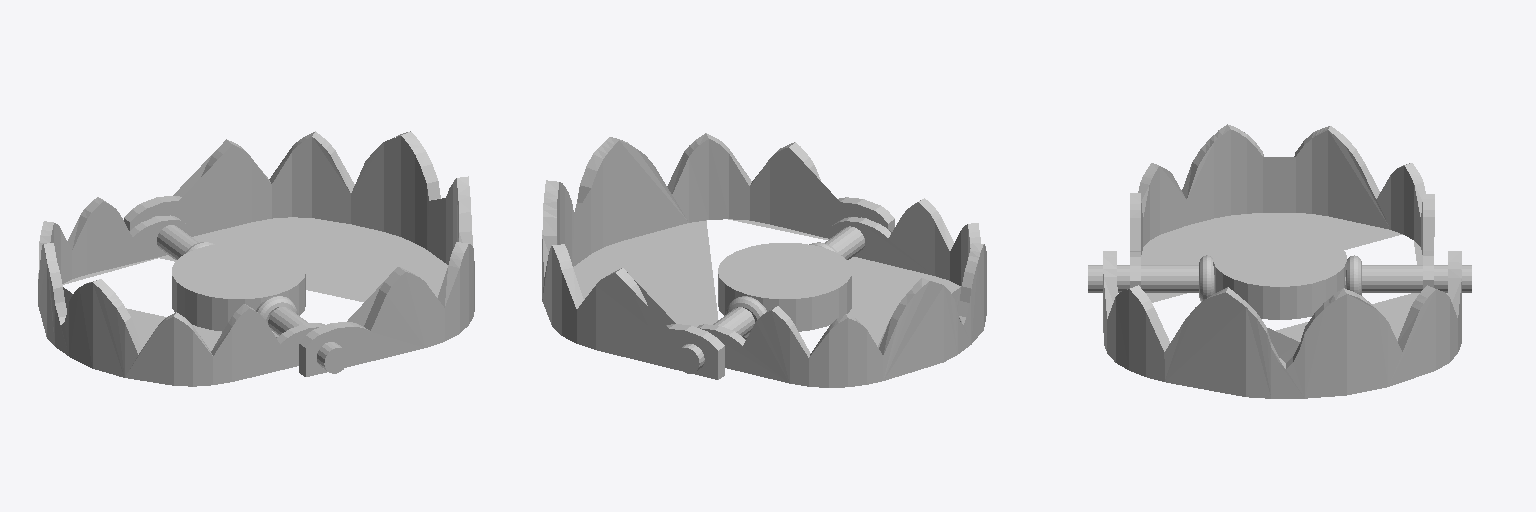
Rendered from WolfTrap.obj.
3 renders of one model, left to right at view 1: azimuth 30°, elevation 25°; view 2: azimuth 150°, elevation 25°; view 3: azimuth 270°, elevation 25°, orthographic.
Visible parts, largest first — view 1: trap_wolf_part1, trap_wolf_part2, trap_wolf_part3; view 2: trap_wolf_part1, trap_wolf_part2, trap_wolf_part3; view 3: trap_wolf_part1, trap_wolf_part2, trap_wolf_part3.
Part boxes in pixels (left/top/right/bottom): trap_wolf_part1: left=124, top=131, right=474, bottom=376; trap_wolf_part2: left=38, top=197, right=324, bottom=386; trap_wolf_part3: left=151, top=216, right=348, bottom=373; trap_wolf_part1: left=542, top=133, right=894, bottom=379; trap_wolf_part2: left=697, top=198, right=986, bottom=387; trap_wolf_part3: left=675, top=217, right=866, bottom=373; trap_wolf_part1: left=1103, top=251, right=1461, bottom=398; trap_wolf_part2: left=1130, top=124, right=1434, bottom=302; trap_wolf_part3: left=1088, top=230, right=1471, bottom=319.
Bounding box in the file's own units: 2.5 × 0.6637 × 2.13.